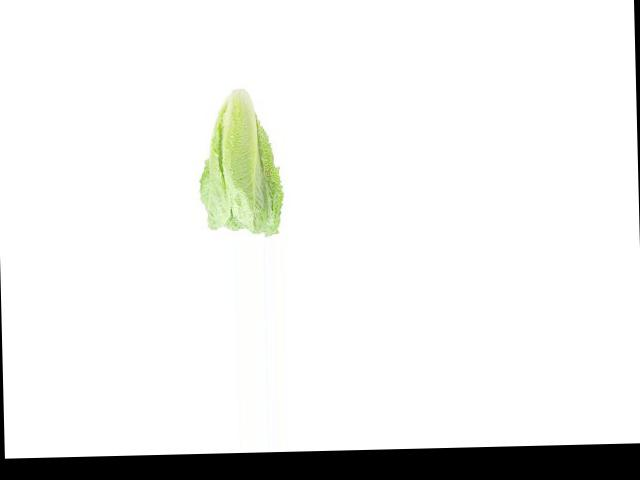lettuce: (154, 120, 322, 231)
